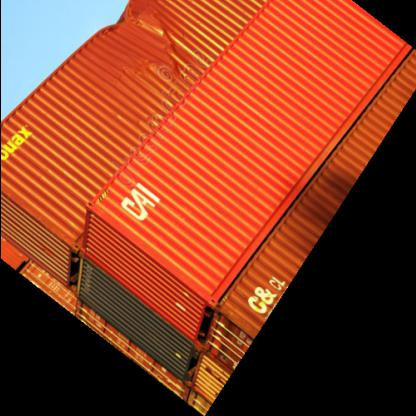Damage: (110, 2, 181, 78)
